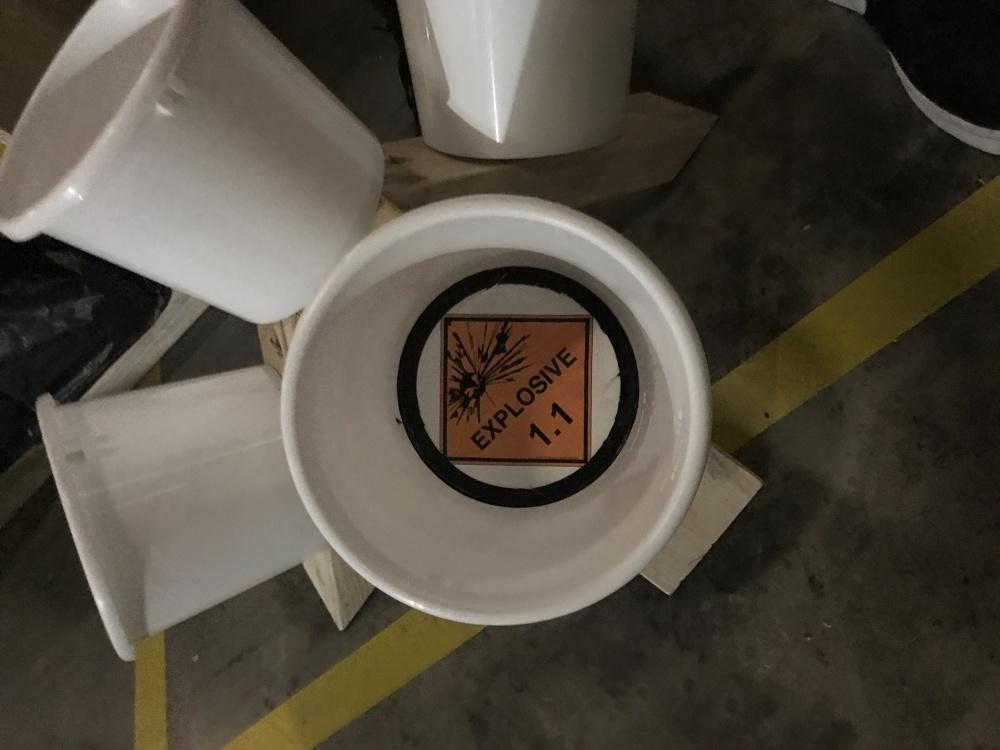explosive: (441, 315, 593, 468)
